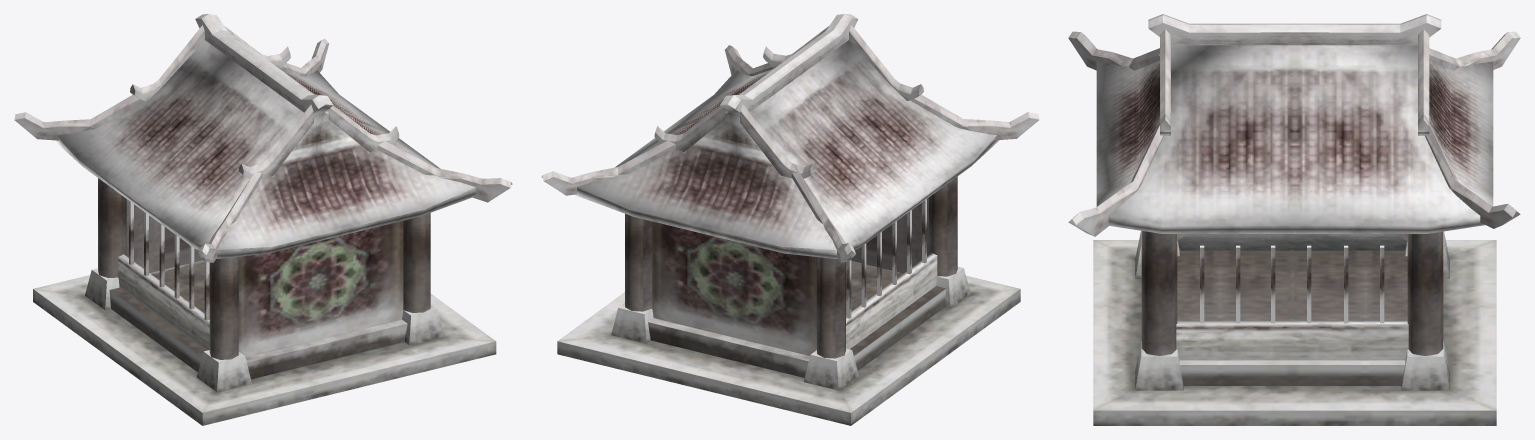
File: snow-004-house2.glb
3 views of the same model, side by side, from view 1: azimuth 30°, elevation 25°; view 2: azimuth 150°, elevation 25°; view 3: azimuth 270°, elevation 25° (orthographic). The views are drawn at different scales.
Parts seen in each view (by area): view 1: snow-004-hause2; view 2: snow-004-hause2; view 3: snow-004-hause2.
Boxes of the visible parts, x1,y1,x2,y2 form: snow-004-hause2: [14, 14, 512, 425]; snow-004-hause2: [541, 14, 1039, 425]; snow-004-hause2: [1068, 14, 1520, 425].
Size of the model in its own units: 4.01 by 3.33 by 4.19.
Materials: 1 (1 with a texture image).
